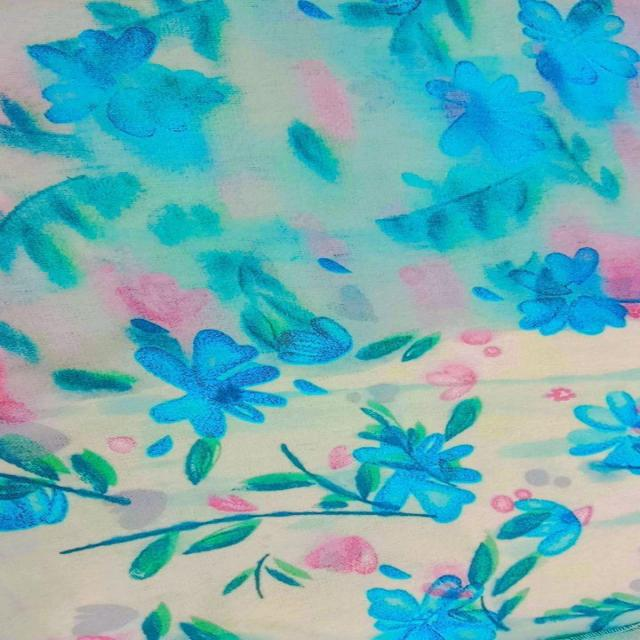baekra: (10, 7, 630, 386)
